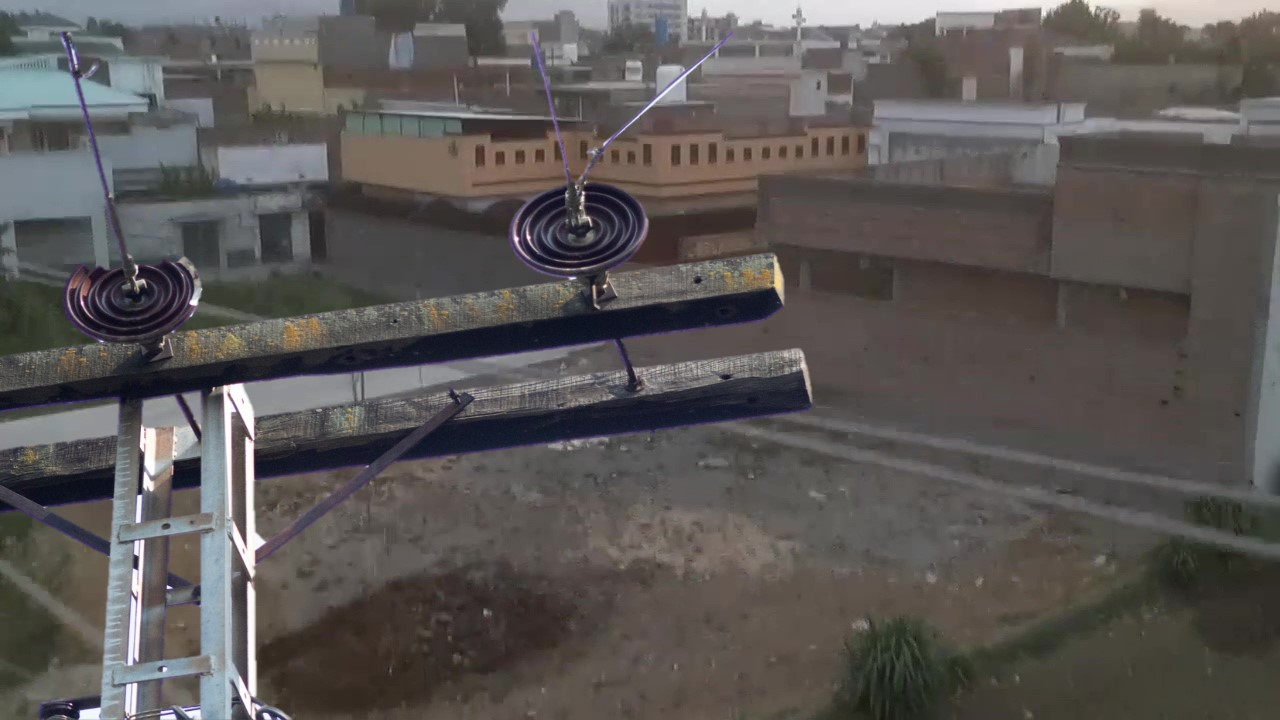defect_disc: (63, 250, 205, 345)
insulator_disc: (506, 178, 655, 284)
